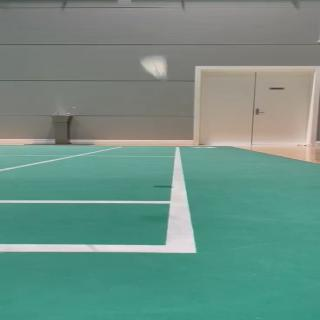Shuttle: (139, 54, 170, 82)
